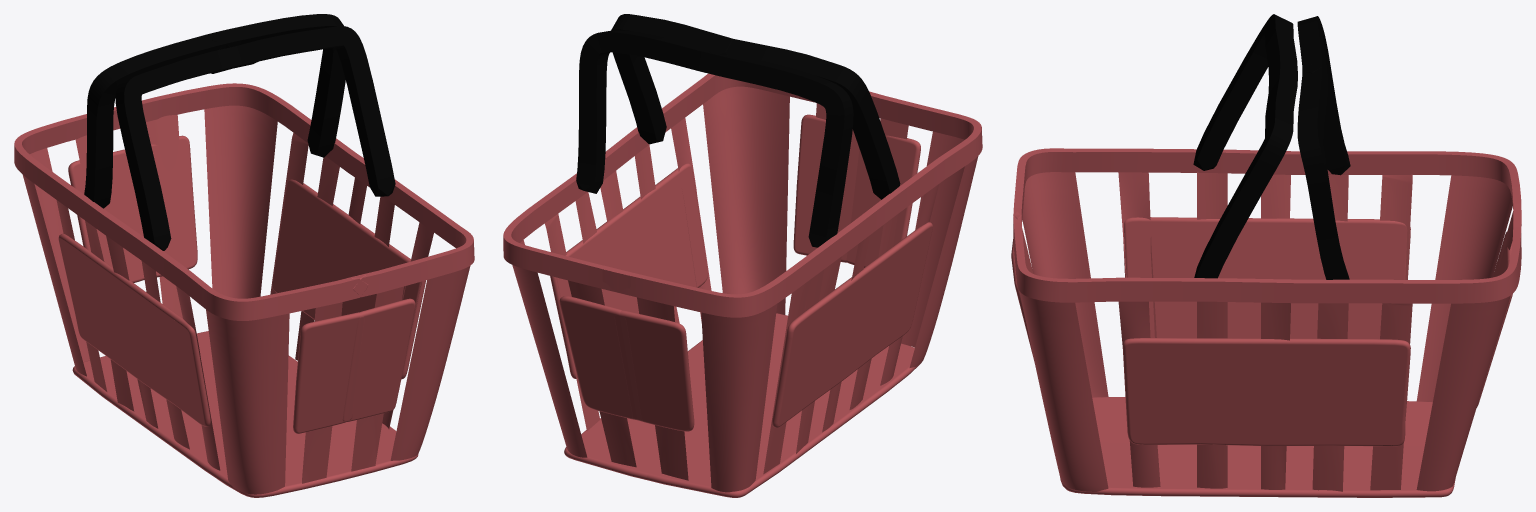
File: basket.fbx
The picture shows the model from 3 angles, left to right: view 1: azimuth 30°, elevation 25°; view 2: azimuth 150°, elevation 25°; view 3: azimuth 270°, elevation 25°; orthographic projection. The views are drawn at different scales.
Parts seen in each view (by area): view 1: p0011.66012.Mirror, c0002.66983.Mirror, c0003.50227, s0000.60519.Mirror, p0011.66012, s0000.60519, s0014.18643.Mirror, s0014.18643, c0002.66983, p0012.32853.Mirror, p0001.83547.Mirror, p0012.32853 (+19 smaller); view 2: c0002.66983, p0011.66012.Mirror, s0000.60519.Mirror, p0011.66012, c0003.50227.Mirror, s0000.60519, s0015.36069.Mirror, p0001.83547.Mirror, s0015.36069, p0013.84497.Mirror, p0013.84497, c0002.66983.Mirror (+19 smaller); view 3: p0011.66012, p0011.66012.Mirror, s0000.60519, p0001.83547, s0000.60519.Mirror, c0002.66983, c0003.50227, c0003.50227.Mirror, c0002.66983.Mirror, s0014.18643, s0015.36069, s0014.18643.Mirror (+12 smaller).
Part boxes in pixels (<box>): p0011.66012.Mirror: <box>58,233,210,426</box>; c0002.66983.Mirror: <box>206,309,289,494</box>; c0003.50227: <box>204,105,277,298</box>; s0000.60519.Mirror: <box>14,107,368,320</box>; p0011.66012: <box>272,179,425,379</box>; s0000.60519: <box>113,83,474,297</box>; s0014.18643.Mirror: <box>115,46,261,250</box>; s0014.18643: <box>210,26,395,196</box>; c0002.66983: <box>390,266,470,460</box>; p0012.32853.Mirror: <box>293,312,364,433</box>; p0001.83547.Mirror: <box>72,356,340,497</box>; p0012.32853: <box>342,298,415,421</box>; c0002.66983: <box>703,86,789,314</box>; p0011.66012.Mirror: <box>772,222,932,427</box>; s0000.60519.Mirror: <box>602,91,982,317</box>; p0011.66012: <box>550,163,707,378</box>; c0003.50227.Mirror: <box>701,304,777,492</box>; s0000.60519: <box>503,73,815,291</box>; s0015.36069.Mirror: <box>709,50,853,247</box>; p0001.83547.Mirror: <box>647,343,923,497</box>; s0015.36069: <box>576,30,727,193</box>; p0013.84497.Mirror: <box>614,310,694,431</box>; p0013.84497: <box>559,296,642,420</box>; c0002.66983.Mirror: <box>901,131,978,367</box>; p0011.66012: <box>1122,338,1410,446</box>; p0011.66012.Mirror: <box>1123,217,1410,339</box>; s0000.60519: <box>1013,210,1521,303</box>; p0001.83547: <box>1060,442,1455,497</box>; s0000.60519.Mirror: <box>1013,148,1521,229</box>; c0002.66983: <box>1019,291,1108,491</box>; c0003.50227: <box>1416,295,1510,491</box>; c0003.50227.Mirror: <box>1416,175,1512,401</box>; c0002.66983.Mirror: <box>1022,172,1108,397</box>; s0014.18643: <box>1194,65,1297,278</box>; s0015.36069: <box>1297,63,1349,279</box>; s0014.18643.Mirror: <box>1193,14,1297,170</box>.
Bounding box in the file's own units: 59.2 × 80.27 × 95.39.
